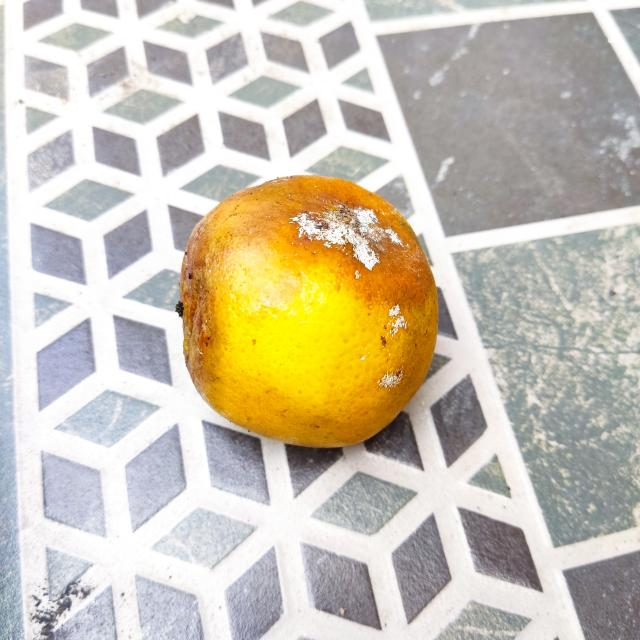orange: (176, 172, 439, 451)
